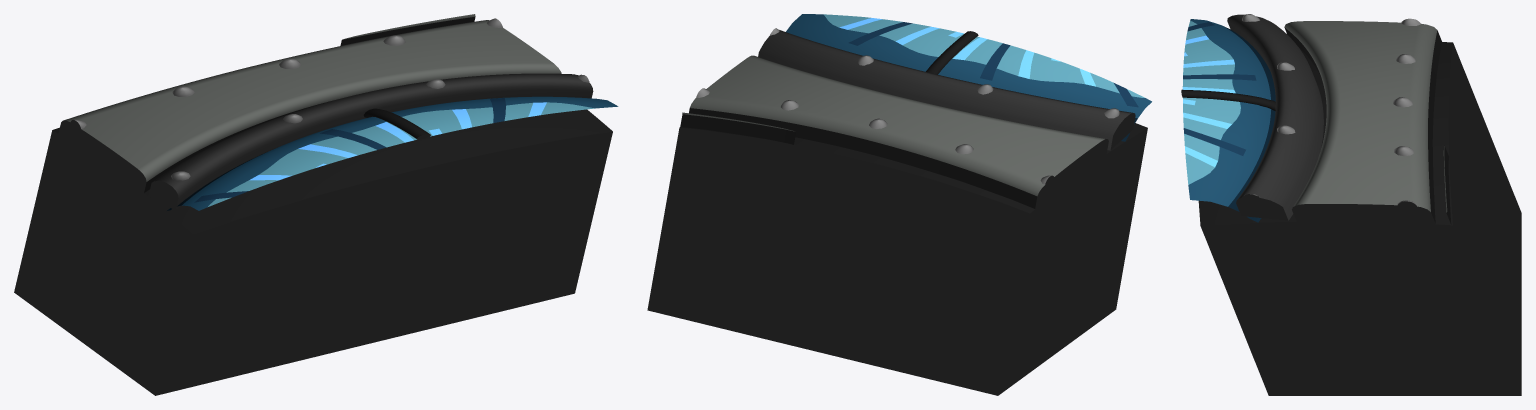
The model's file is eye_sphere_193.glb.
3 renders of one model, left to right at view 1: azimuth 30°, elevation 25°; view 2: azimuth 150°, elevation 25°; view 3: azimuth 270°, elevation 25°, orthographic. The views are drawn at different scales.
Visible parts, largest first — view 1: eye_sphere_193; view 2: eye_sphere_193; view 3: eye_sphere_193.
Part boxes in pixels (x1,y1,x2,y2): eye_sphere_193: (14,14,618,395); eye_sphere_193: (647,14,1151,395); eye_sphere_193: (1181,14,1521,395).
Size of the model in its own units: 24 by 13.29 by 18.84.
